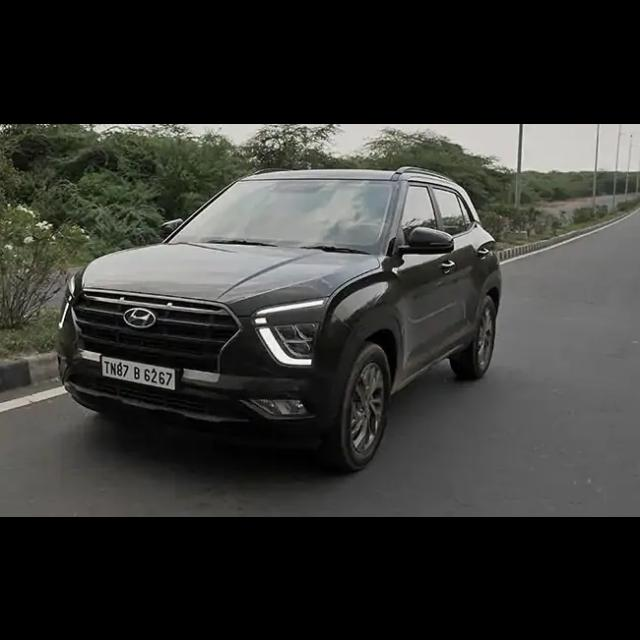number-plate: (98, 355, 176, 389)
vehicles: (60, 161, 507, 471)
